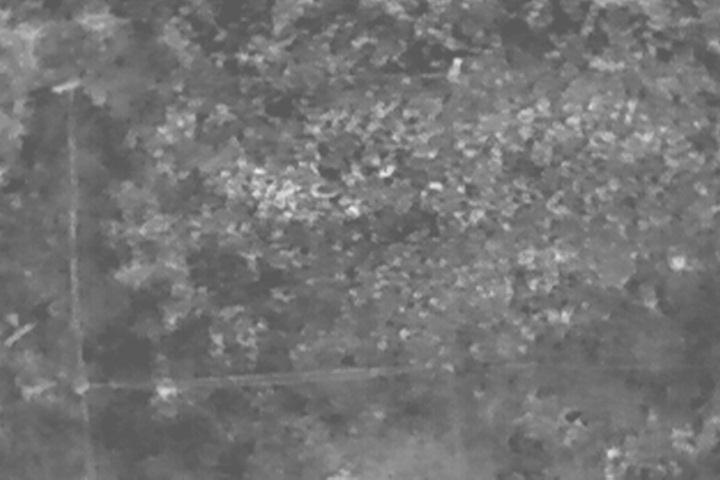landmine: (258, 177, 301, 214)
